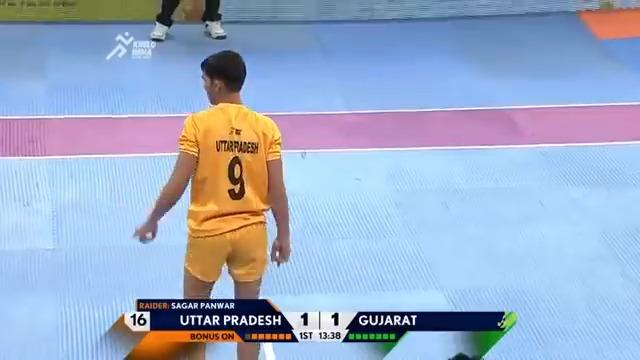Raider: (132, 49, 291, 358)
referee: (149, 0, 227, 41)
